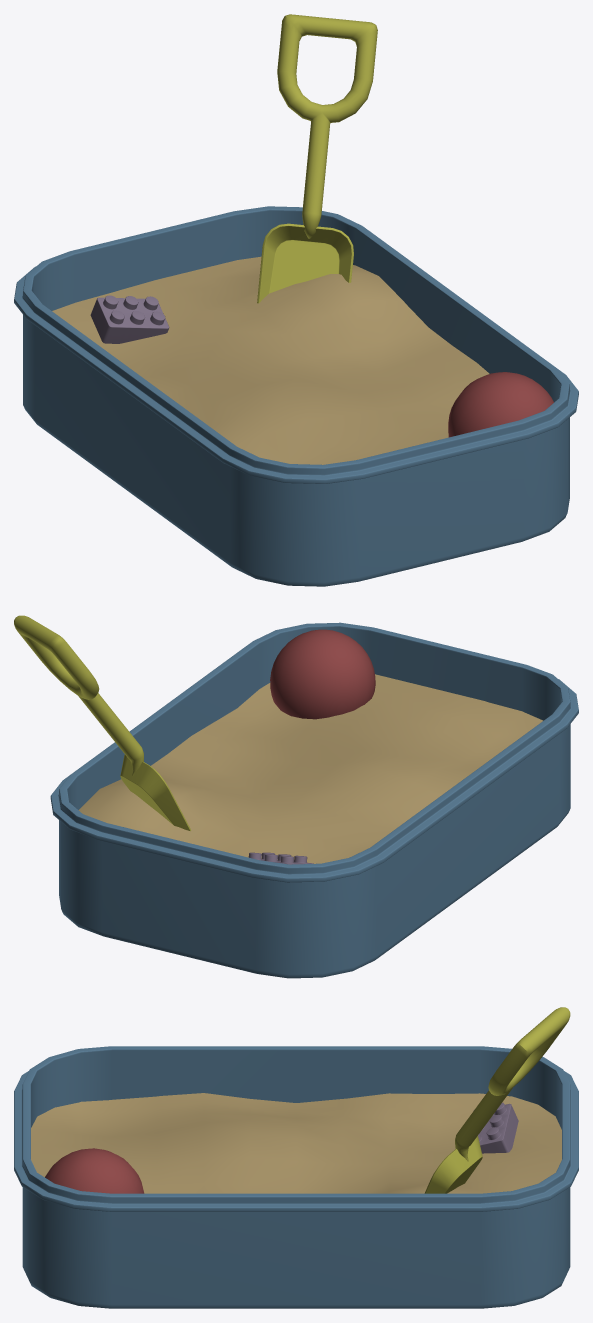
File: sandbox.fbx
The picture shows the model from 3 angles, top to bottom: view 1: azimuth 30°, elevation 25°; view 2: azimuth 150°, elevation 25°; view 3: azimuth 270°, elevation 25°; orthographic projection. The views are drawn at different scales.
Parts seen in each view (by area): view 1: sandbox; view 2: sandbox; view 3: sandbox.
Part boxes in pixels (x1,y1,x2,y2): sandbox: [14, 14, 578, 586]; sandbox: [14, 615, 578, 978]; sandbox: [14, 1007, 578, 1308].
Size of the model in its own units: 19.29 by 15.24 by 26.86.
